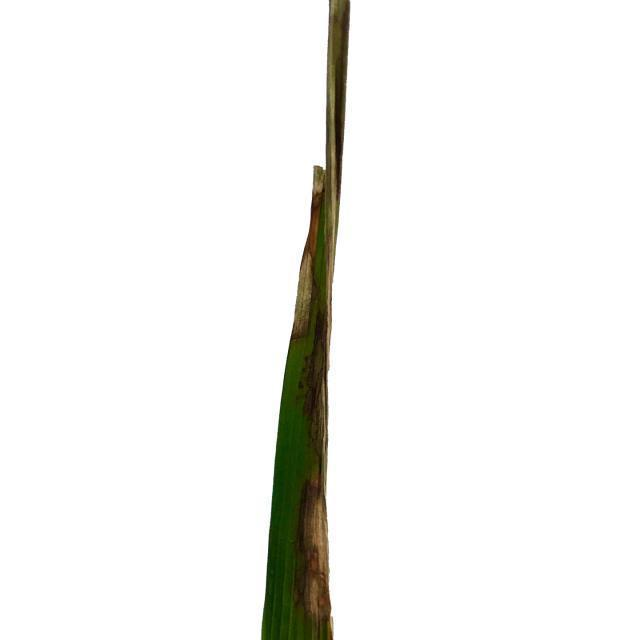Bacterial_Leaf_Blight: (291, 205, 338, 430), (304, 450, 340, 640)
